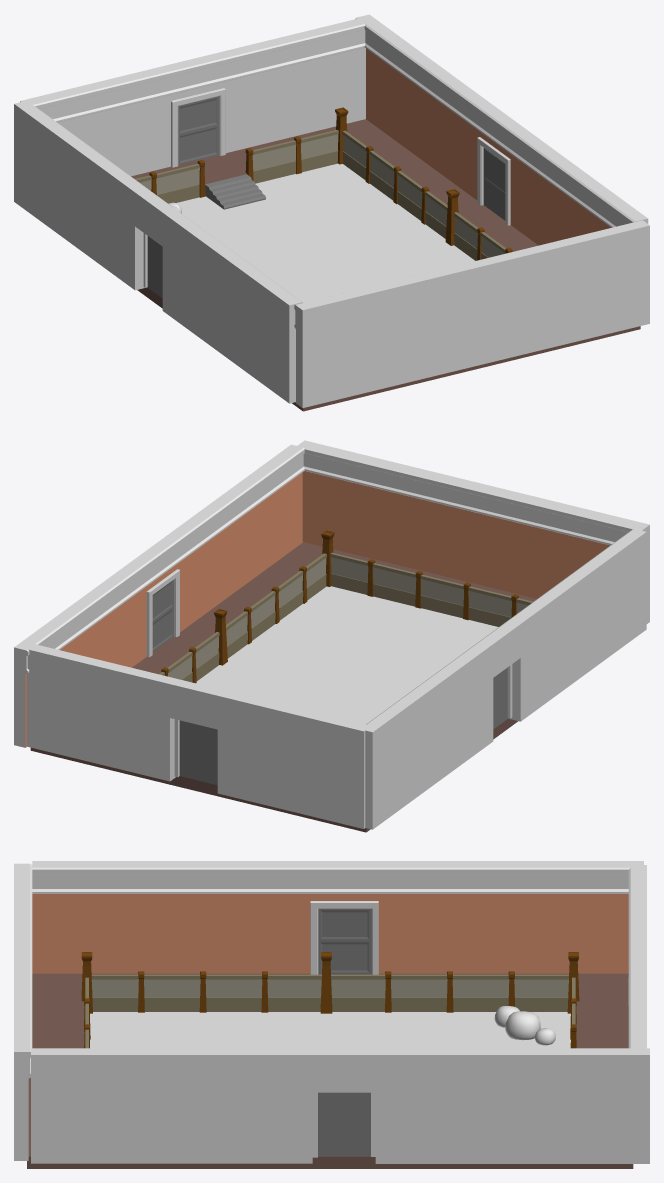
Rendered from garden.fbx.
3 renders of one model, top to bottom at view 1: azimuth 30°, elevation 25°; view 2: azimuth 150°, elevation 25°; view 3: azimuth 270°, elevation 25°, orthographic. The views are drawn at different scales.
Visible parts, largest first — view 1: wall.007, wall.002, wall.001, wall.004, Plane, Platform, Door, Cube.014, Cube.015, Cube, Cube.001, Door.002 (+9 smaller); view 2: wall.001, wall.002, wall.007, wall.004, Plane, Platform, Cube.008, Cube.014, Door, Cube.009, Cube.015, Door.002 (+7 smaller); view 3: wall.004, wall.002, Plane, Platform, Cube.011, Cube.012, wall.007, wall.001, Door.002, Door.001, Cube.013, wall.003 (+4 smaller).
Boxes of the visible parts, bbox=[...] form: wall.007: bbox=[294, 220, 649, 408]; wall.002: bbox=[14, 102, 303, 403]; wall.001: bbox=[20, 16, 374, 176]; wall.004: bbox=[355, 14, 648, 245]; Plane: bbox=[176, 163, 474, 302]; Platform: bbox=[131, 119, 640, 411]; Door: bbox=[178, 96, 218, 165]; Cube.014: bbox=[343, 135, 504, 257]; Cube.015: bbox=[343, 151, 488, 260]; Cube: bbox=[205, 174, 265, 209]; Cube.001: bbox=[252, 134, 338, 171]; Door.002: bbox=[483, 148, 505, 220]; wall.001: bbox=[19, 642, 370, 828]; wall.002: bbox=[365, 529, 646, 829]; wall.007: bbox=[297, 440, 649, 623]; wall.004: bbox=[14, 444, 304, 747]; Plane: bbox=[196, 586, 498, 724]; Platform: bbox=[30, 542, 536, 832]; Cube.008: bbox=[331, 557, 527, 617]; Cube.014: bbox=[168, 558, 326, 679]; Door: bbox=[179, 720, 217, 784]; Cube.009: bbox=[331, 573, 511, 626]; Cube.015: bbox=[181, 574, 326, 682]; Door.002: bbox=[152, 580, 173, 651]; wall.004: bbox=[31, 1048, 649, 1163]; wall.002: bbox=[32, 861, 643, 973]; Plane: bbox=[90, 1012, 570, 1048]; Platform: bbox=[27, 973, 633, 1168]; Cube.011: bbox=[91, 979, 568, 997]; Cube.012: bbox=[92, 997, 568, 1011]; wall.007: bbox=[14, 863, 32, 1160]; wall.001: bbox=[628, 865, 646, 1053]; Door.002: bbox=[318, 1092, 370, 1156]; Door.001: bbox=[318, 909, 371, 974]; Cube.013: bbox=[91, 974, 568, 979]; wall.003: bbox=[310, 901, 378, 974].
Size of the model in its own units: 1653 by 484 by 2291.
